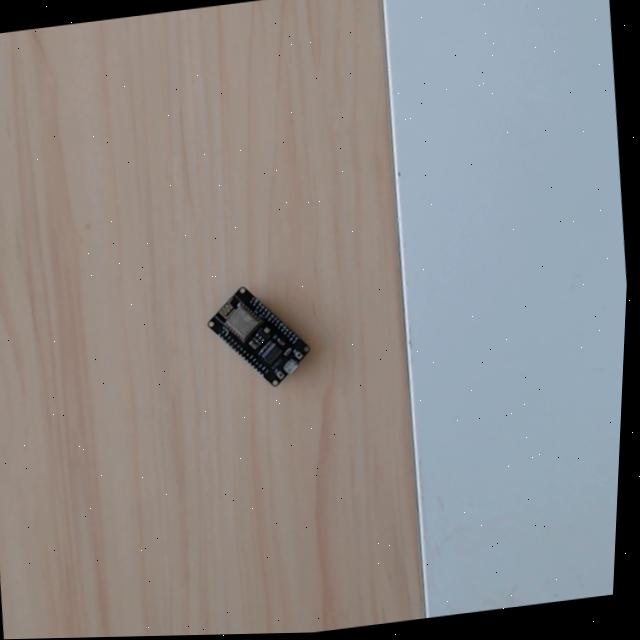ESP8266-NodeMCU: (204, 283, 313, 389)
